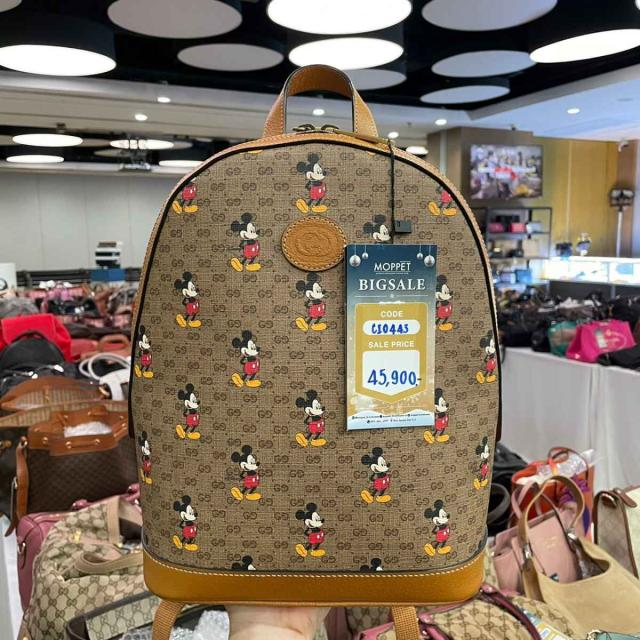Handbag: (122, 136, 512, 618)
